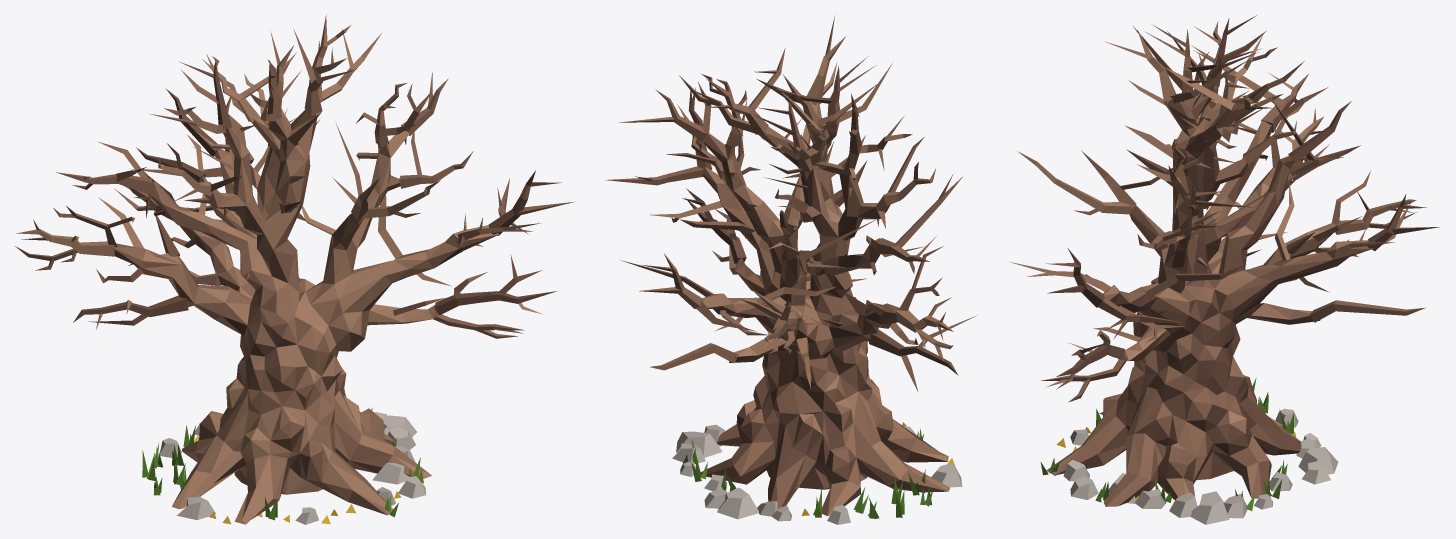
File: giant_cherry_bare.glb
3 views of the same model, side by side, from view 1: azimuth 30°, elevation 25°; view 2: azimuth 150°, elevation 25°; view 3: azimuth 270°, elevation 25° (orthographic). The views are drawn at different scales.
Visible parts, largest first — view 1: giant_cherry_bare; view 2: giant_cherry_bare; view 3: giant_cherry_bare.
Boxes of the visible parts, x1,y1,x2,y2 form: giant_cherry_bare: (15,14,573,524); giant_cherry_bare: (605,16,977,524); giant_cherry_bare: (1009,15,1439,524).
Size of the model in its own units: 26.14 by 25.08 by 22.87.
